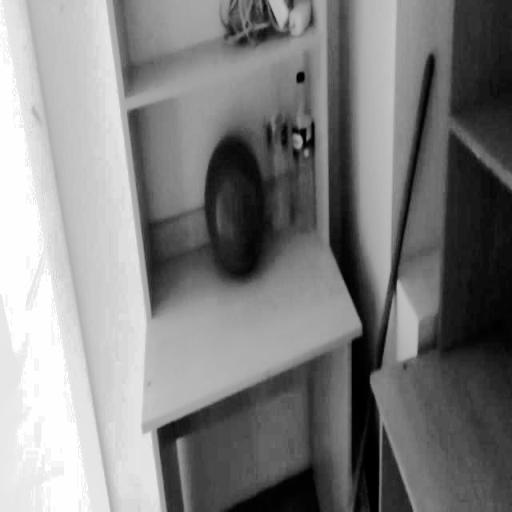balloon: (199, 124, 271, 286)
